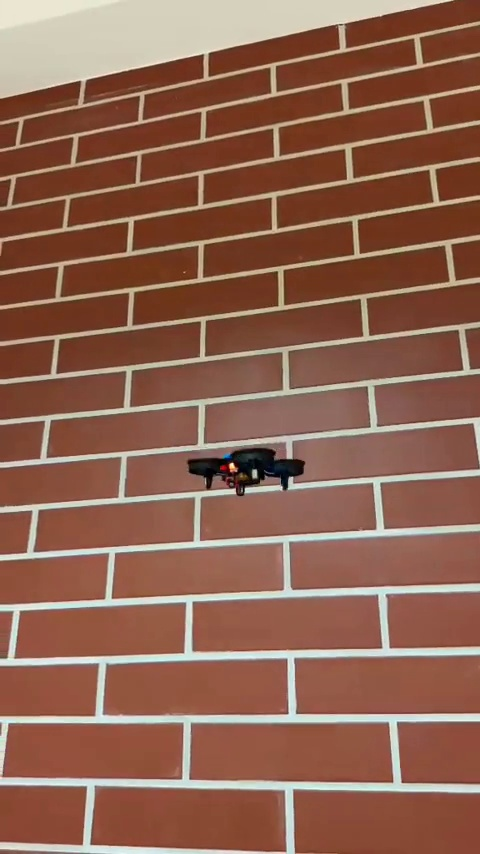drone: (187, 447, 305, 498)
